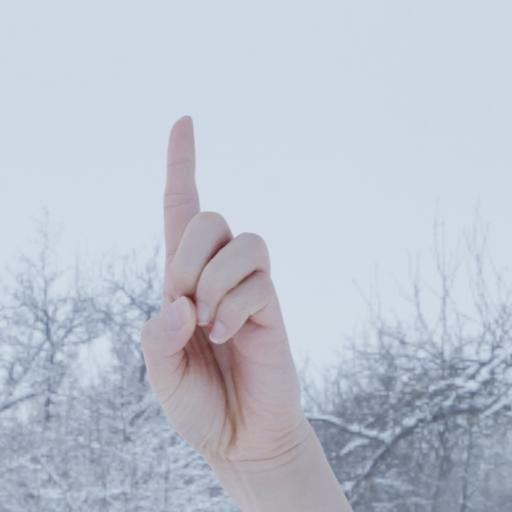D: (117, 102, 345, 479)
